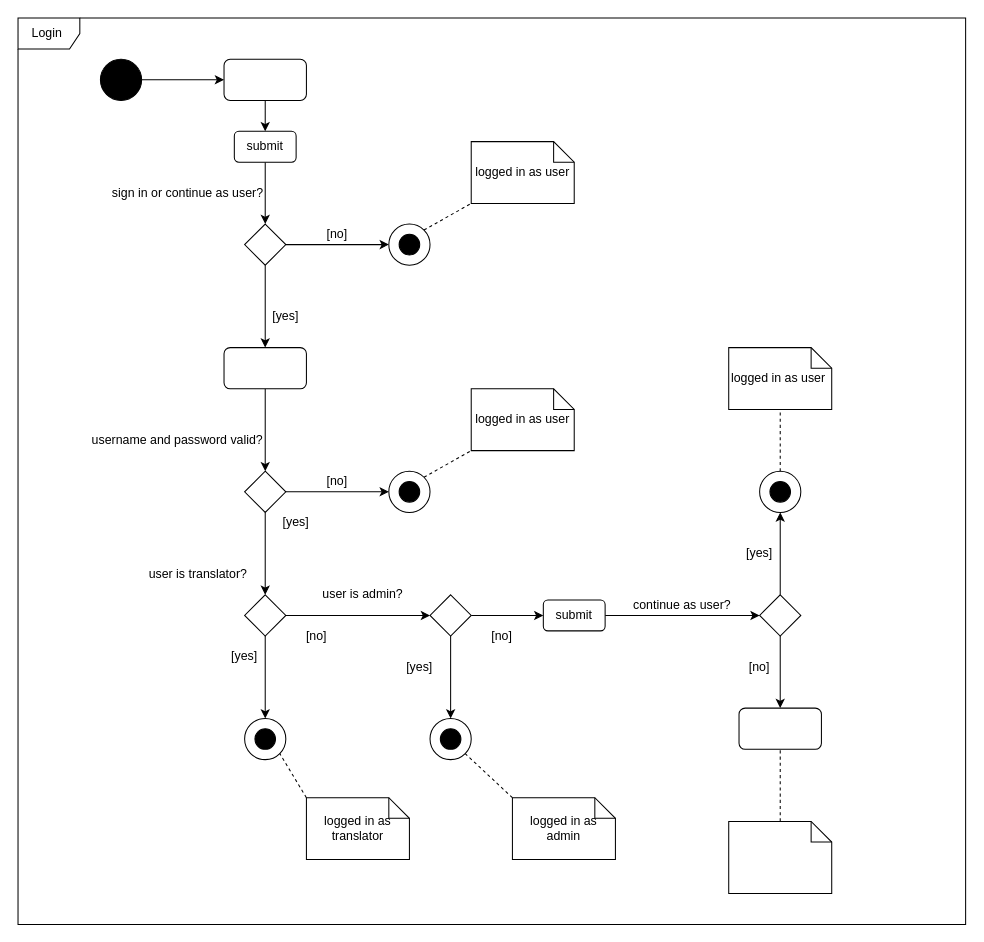
Some shapes in this 984 by 942 pixel diagram are drawn without their labels. The centre of each missing label's shape, as x and y in pixels:
kill application process: (x=779, y=728)
python application killed by sys.exit(): (x=780, y=857)
start application: (x=264, y=79)
submit username and password: (x=264, y=368)
